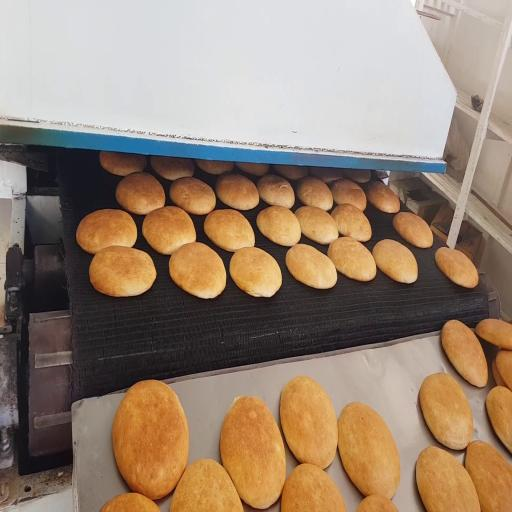bread: (112, 381, 189, 499), (220, 397, 286, 509), (338, 403, 400, 499), (280, 376, 337, 469), (419, 373, 473, 449), (416, 447, 480, 511), (170, 459, 243, 511), (89, 246, 156, 296), (465, 441, 511, 511), (170, 242, 226, 298), (441, 320, 487, 387), (281, 464, 346, 511), (76, 210, 137, 254), (142, 206, 195, 255), (230, 247, 281, 297), (286, 244, 337, 289), (328, 237, 376, 281), (116, 172, 165, 215), (204, 209, 254, 251), (372, 239, 417, 283), (435, 247, 478, 288), (257, 206, 301, 246), (170, 177, 215, 215), (486, 386, 511, 453), (295, 206, 338, 244), (216, 174, 259, 210), (331, 204, 371, 241), (393, 212, 433, 248), (257, 174, 294, 208), (297, 176, 333, 210), (100, 151, 146, 176), (331, 179, 366, 211), (151, 156, 194, 181), (100, 493, 159, 511), (476, 319, 511, 349), (367, 182, 400, 213), (356, 495, 398, 511), (496, 349, 511, 389), (310, 167, 343, 183), (196, 160, 233, 174), (274, 165, 308, 180), (236, 163, 269, 176), (492, 358, 506, 386), (344, 169, 370, 183)
